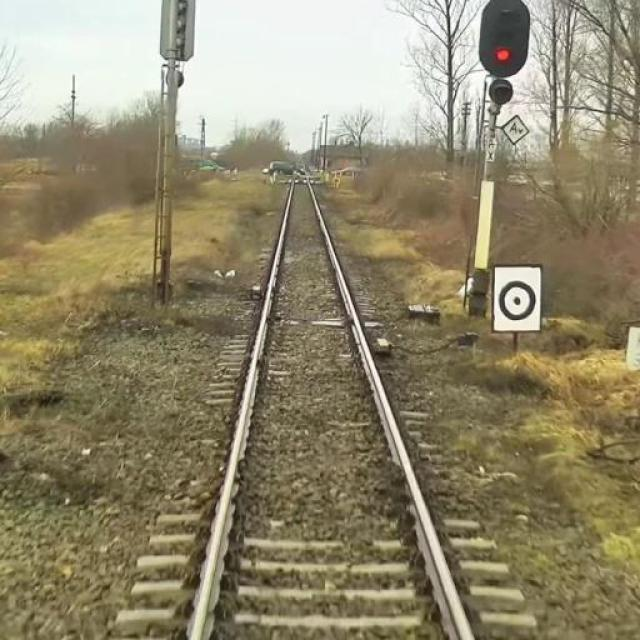vehicle: (265, 152, 313, 182)
